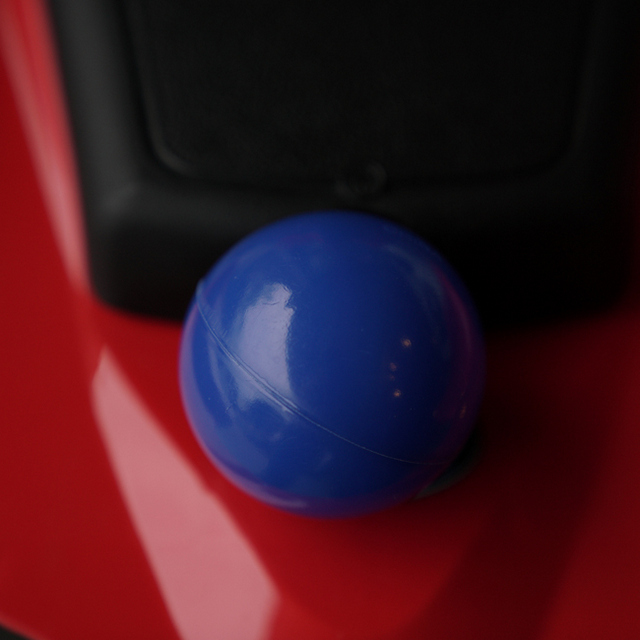Ball: (182, 210, 482, 515)
